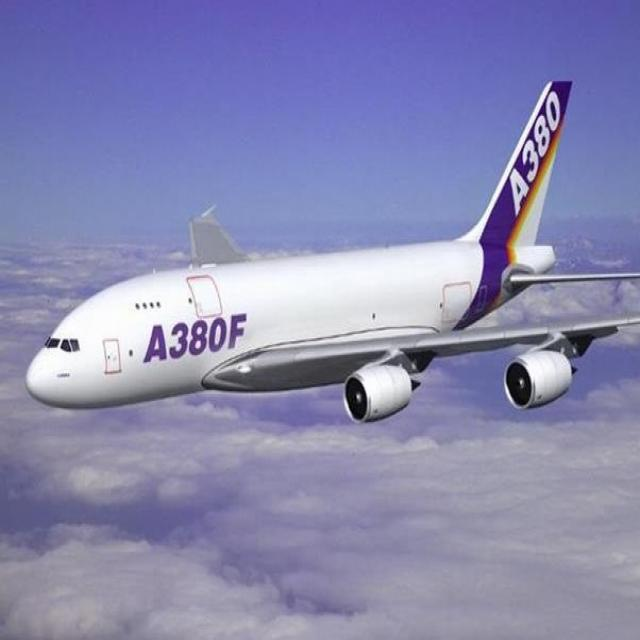A380: (26, 81, 634, 421)
